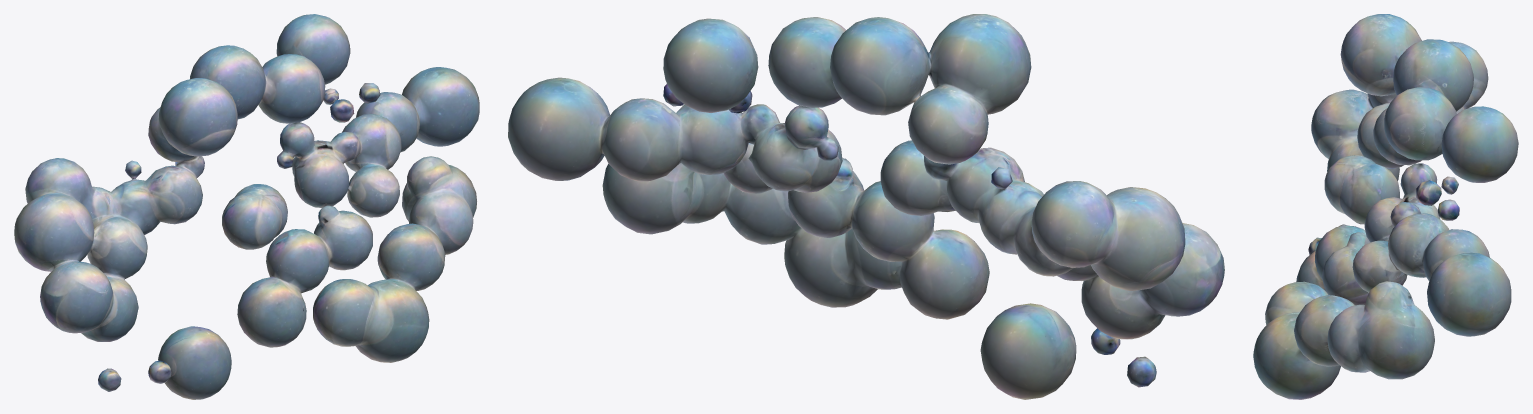
File: BURBUJAS.glb
3 views of the same model, side by side, from view 1: azimuth 30°, elevation 25°; view 2: azimuth 150°, elevation 25°; view 3: azimuth 270°, elevation 25° (orthographic). The views are drawn at different scales.
Size of the model in its own units: 2 by 1.18 by 0.8946.
Materials: 1 (1 with a texture image).
